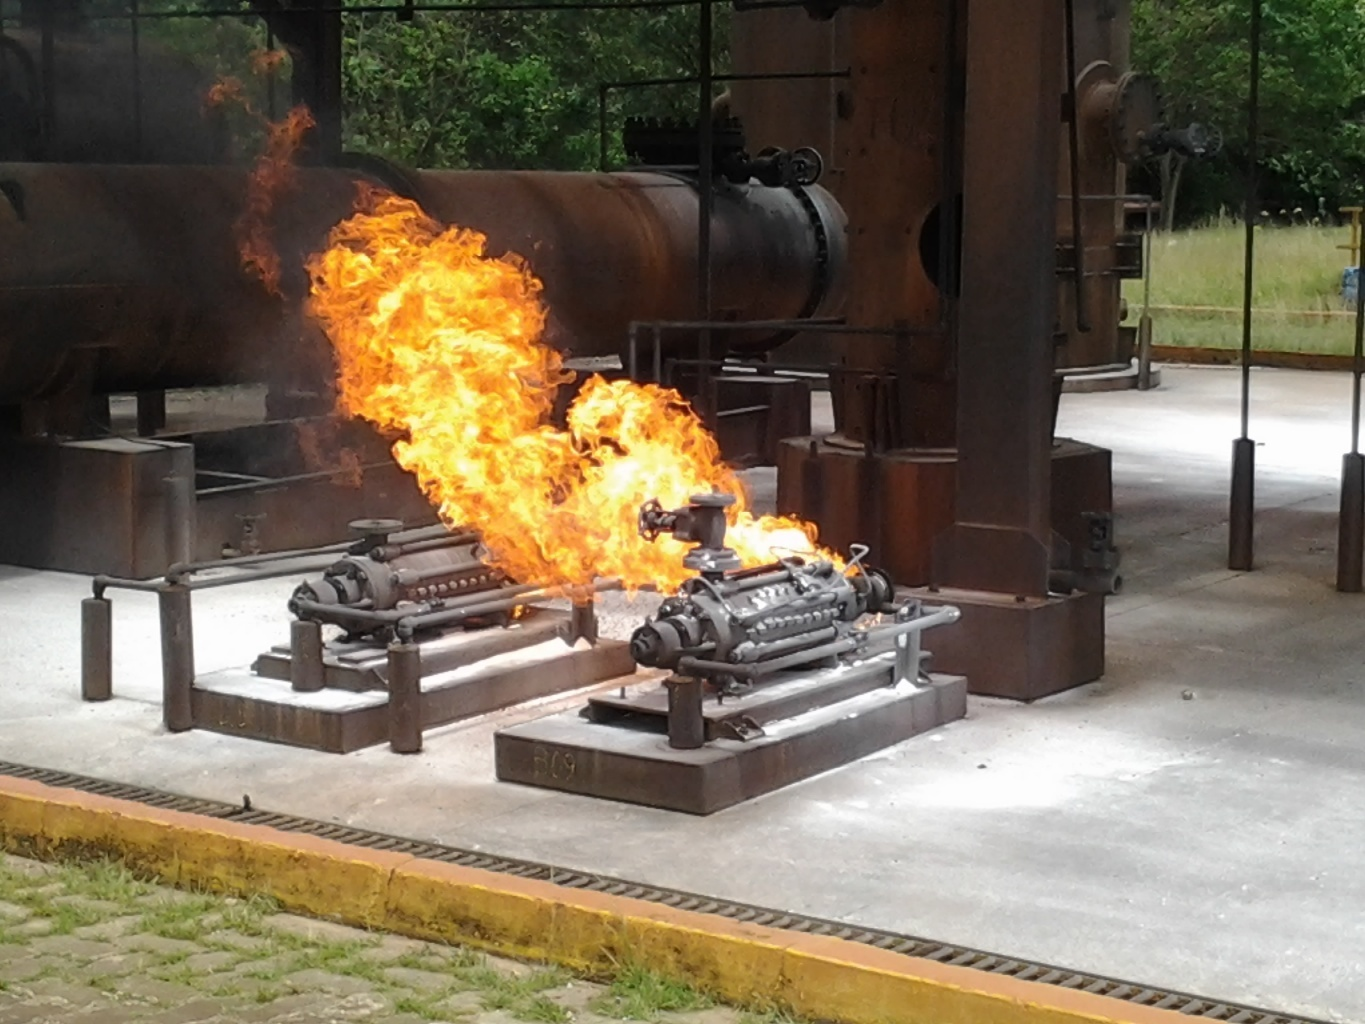fire: (274, 169, 854, 598)
